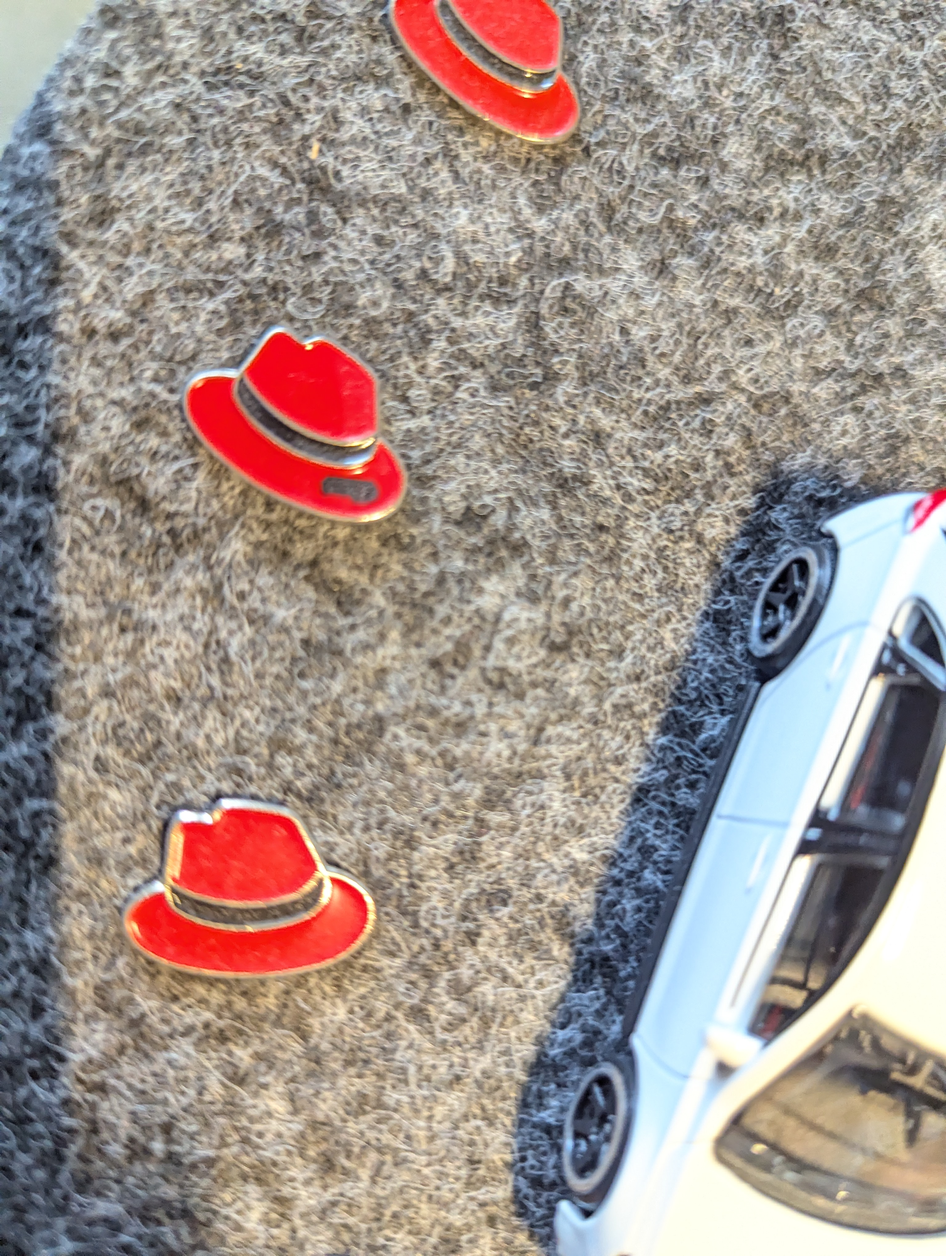Car: (513, 447, 946, 1256)
Red-Hat: (113, 770, 392, 1006), (170, 292, 419, 553), (350, 0, 593, 176)
Scratch: (301, 449, 385, 518)
